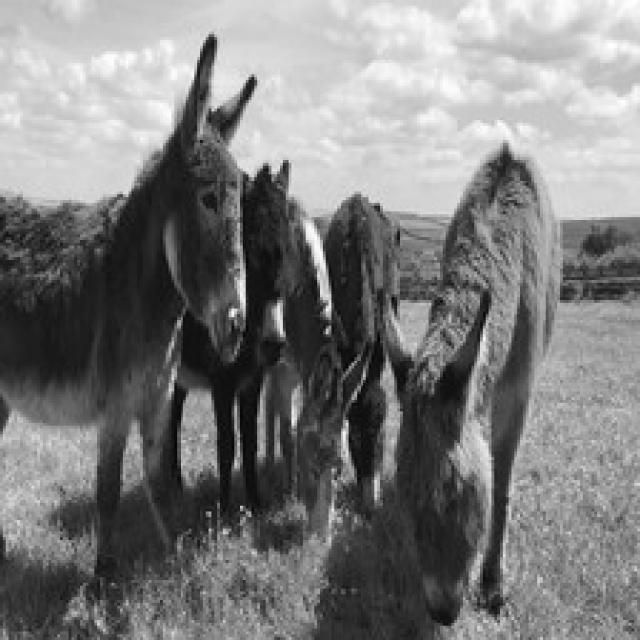Donkey: (0, 29, 257, 592), (377, 137, 563, 626), (163, 157, 294, 523), (320, 189, 400, 520), (277, 194, 343, 537), (237, 157, 294, 503)
